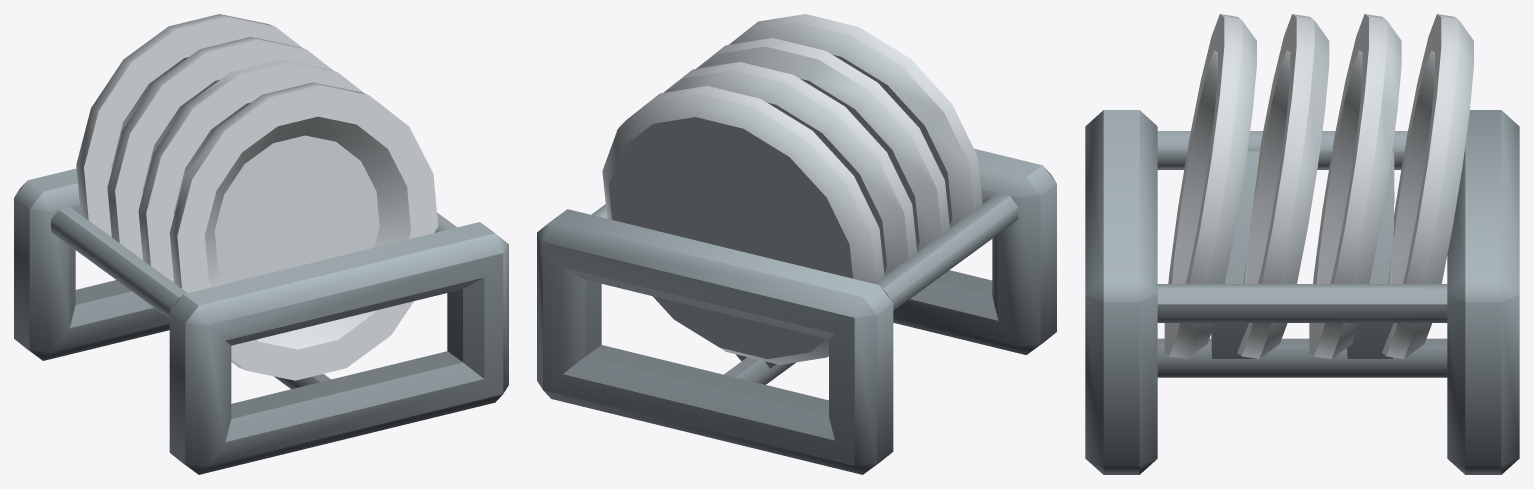
The model's file is dishrack_plates.glb.
3 views of the same model, side by side, from view 1: azimuth 30°, elevation 25°; view 2: azimuth 150°, elevation 25°; view 3: azimuth 270°, elevation 25° (orthographic). The views are drawn at different scales.
Visible parts, largest first — view 1: dishrack_plates_Cylinder.154; view 2: dishrack_plates_Cylinder.154; view 3: dishrack_plates_Cylinder.154.
Boxes of the visible parts, box(x1,y1,x2,y2) form: dishrack_plates_Cylinder.154: box(14, 14, 508, 474); dishrack_plates_Cylinder.154: box(537, 14, 1056, 474); dishrack_plates_Cylinder.154: box(1085, 14, 1519, 474).
Bounding box in the file's own units: 1.2 × 1.1 × 1.2.
Materials: 1 (1 with a texture image).
